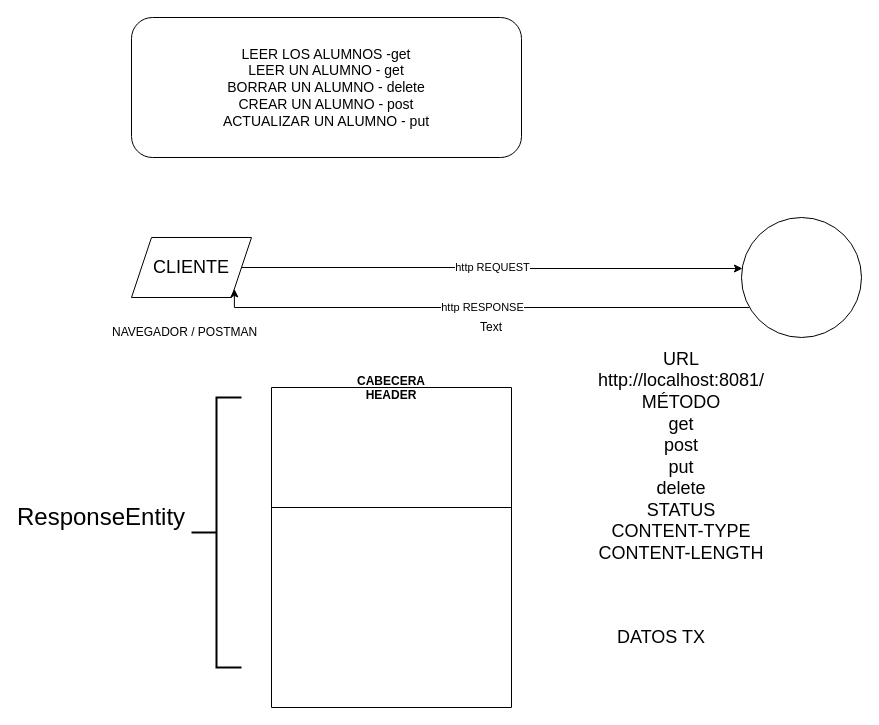
Image size: 879x725. Some labels were removed from this diagram. Each missing label, with the centre of its shape:
"CUERPO BODY" goes at point (391, 607).
"SERVIDOR" goes at point (801, 277).
